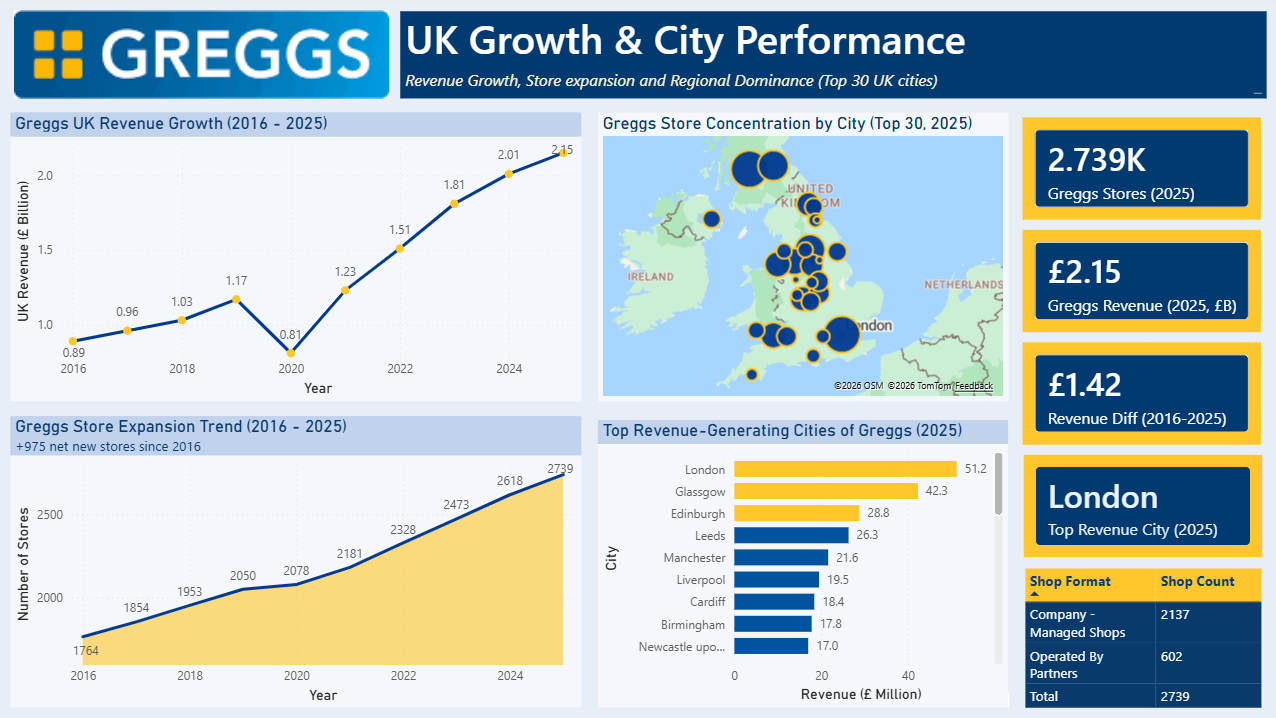

This screenshot's page, from the dashboard's own definition file:
{"tool":"powerbi","page":{"name":"Page 2","canvas":[1280,720],"ordinal":1},"visuals":[{"type":"shape","box":[0,0,1280,720],"z":0},{"type":"image","box":[15,10,375,88.8],"z":1000},{"type":"textbox","title":"UK Growth & City Performance","box":[401.2,11.2,866.2,87.5],"z":2000},{"type":"lineChart","title":"Greggs UK Revenue Growth (2016 - 2025)","fields":{"Y":["Sum(Table17.Revenue (in Billion) (UK Pounds))"],"Category":["Table17.Year"]},"box":[11.2,112.5,571.2,288.8],"z":3000},{"type":"slicer","fields":{"Values":["Table17.Company Name"]},"box":[997.2,692.4,12.8,14],"z":4000},{"type":"cardVisual","fields":{"Data":["Table1.Greggs Revenue (2025, £B)"]},"box":[1018.8,225,248.8,112.5],"z":5000},{"type":"cardVisual","fields":{"Data":["Table17.Greggs Stores (2025)"]},"box":[1018.8,112.5,248.8,112],"z":6000},{"type":"cardVisual","fields":{"Data":["Table17.Greggs Revenue Growth % (2016→2025)"]},"box":[1018.8,337.5,248.8,112.5],"z":7000},{"type":"areaChart","title":"Greggs Store Expansion Trend (2016 - 2025)","fields":{"Category":["Table17.Year"],"Y":["Sum(Table17.Store Count)"]},"box":[11.2,416.2,571.2,291.2],"z":8000},{"type":"azureMap","title":"Greggs Store Concentration by City (Top 30, 2025)","fields":{"Y":["Table28.Latitude"],"X":["Table28.Longitude"],"Size":["Sum(Table28.Estimated Store Count)"]},"box":[598.8,112.5,410,288.8],"z":9000},{"type":"clusteredBarChart","title":"Top Revenue-Generating Cities of Greggs (2025)","fields":{"Category":["Table28.City"],"Y":["Sum(Table28.Estimated Revenue 2025 (£ millions))"]},"box":[598.8,420,410,287.5],"z":10000},{"type":"tableEx","title":"Store Ownership (2025)","fields":{"Values":["Table8.Shop Format","Table8.Shop Count"]},"box":[1020,563.8,247.5,156.2],"z":11000},{"type":"cardVisual","fields":{"Data":["Table28.Top Revenue City (2025)"]},"box":[1020,450,248.8,112.5],"z":12000}]}

Visuals, with their boxes in screenshot pixels (x1, y1, x2, y2), scaled from the page's 1280x720 canvas onto the 1276x718 screenshot:
shape: (x1=0, y1=0, x2=1275, y2=717)
image: (x1=15, y1=10, x2=389, y2=99)
"UK Growth & City Performance" textbox: (x1=400, y1=11, x2=1263, y2=98)
"Greggs UK Revenue Growth (2016 - 2025)" lineChart: (x1=11, y1=112, x2=581, y2=400)
slicer - Table17.Company Name: (x1=994, y1=690, x2=1007, y2=704)
cardVisual - Table1.Greggs Revenue (2025, £B): (x1=1016, y1=224, x2=1264, y2=337)
cardVisual - Table17.Greggs Stores (2025): (x1=1016, y1=112, x2=1264, y2=224)
cardVisual - Table17.Greggs Revenue Growth % (2016→2025): (x1=1016, y1=337, x2=1264, y2=449)
"Greggs Store Expansion Trend (2016 - 2025)" areaChart: (x1=11, y1=415, x2=581, y2=705)
"Greggs Store Concentration by City (Top 30, 2025)" azureMap: (x1=597, y1=112, x2=1006, y2=400)
"Top Revenue-Generating Cities of Greggs (2025)" clusteredBarChart: (x1=597, y1=419, x2=1006, y2=706)
"Store Ownership (2025)" tableEx: (x1=1017, y1=562, x2=1264, y2=717)
cardVisual - Table28.Top Revenue City (2025): (x1=1017, y1=449, x2=1265, y2=561)
